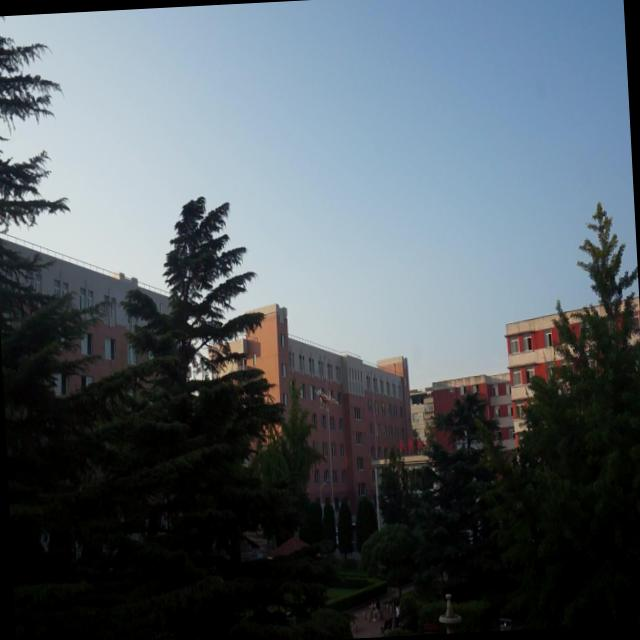drone: (312, 385, 341, 411)
